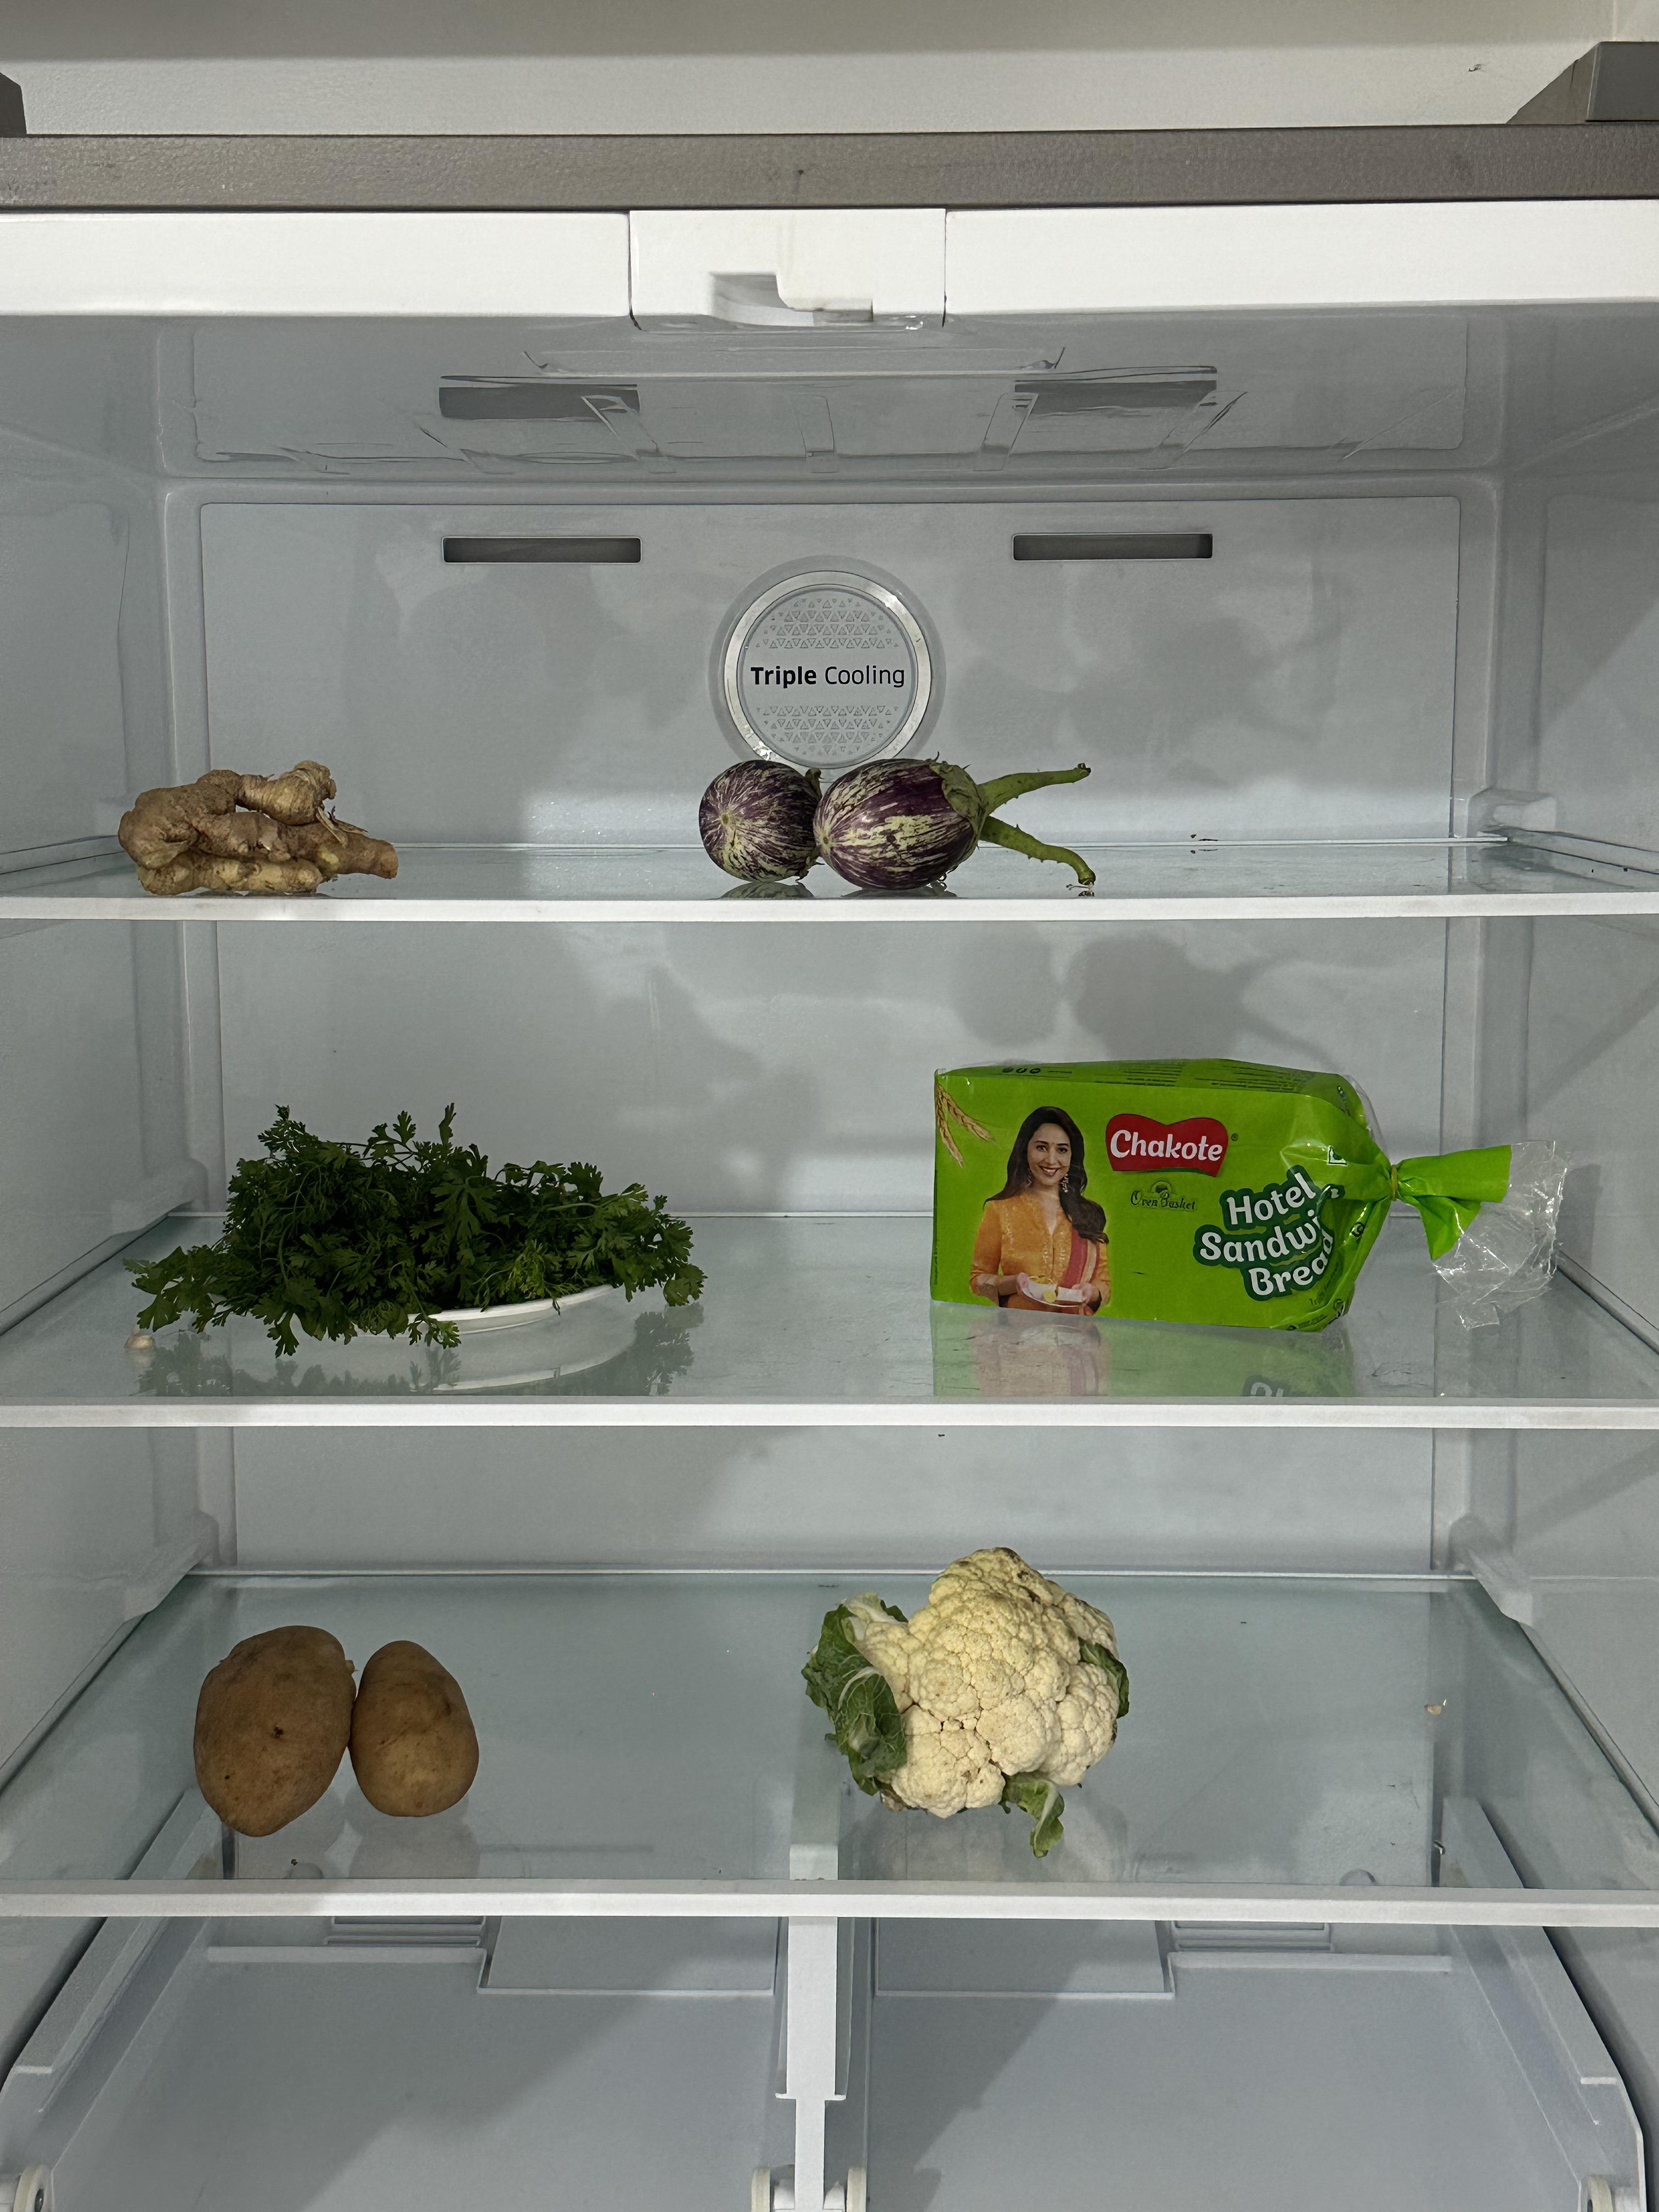bread: (922, 1043, 1398, 1346)
bringal: (692, 752, 1098, 897)
cauliflower: (809, 1554, 1131, 1810)
coriander: (199, 1113, 690, 1357)
ginger: (115, 759, 401, 900)
potato: (195, 1623, 479, 1832)
